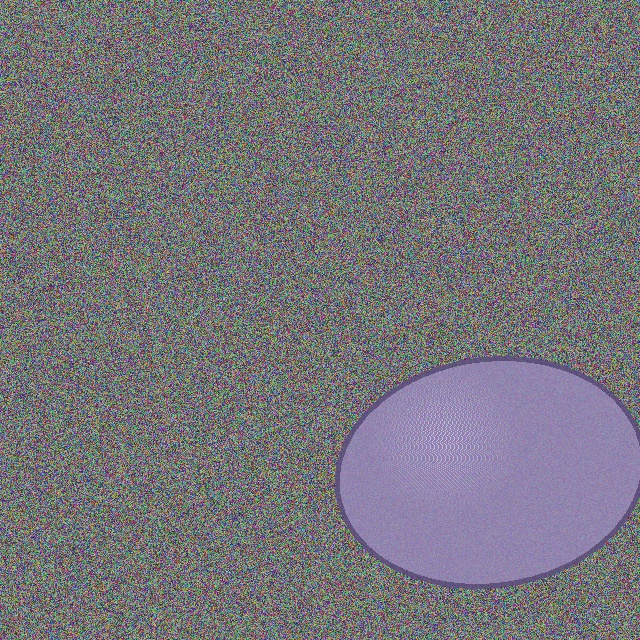lens: (337, 358, 640, 586)
